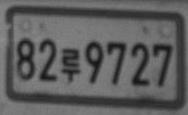2: (130, 41, 150, 85), (39, 38, 58, 81)
7: (150, 42, 173, 87), (106, 41, 126, 84)
8: (17, 37, 34, 79)
9: (84, 40, 103, 83)
루: (60, 47, 81, 81)
